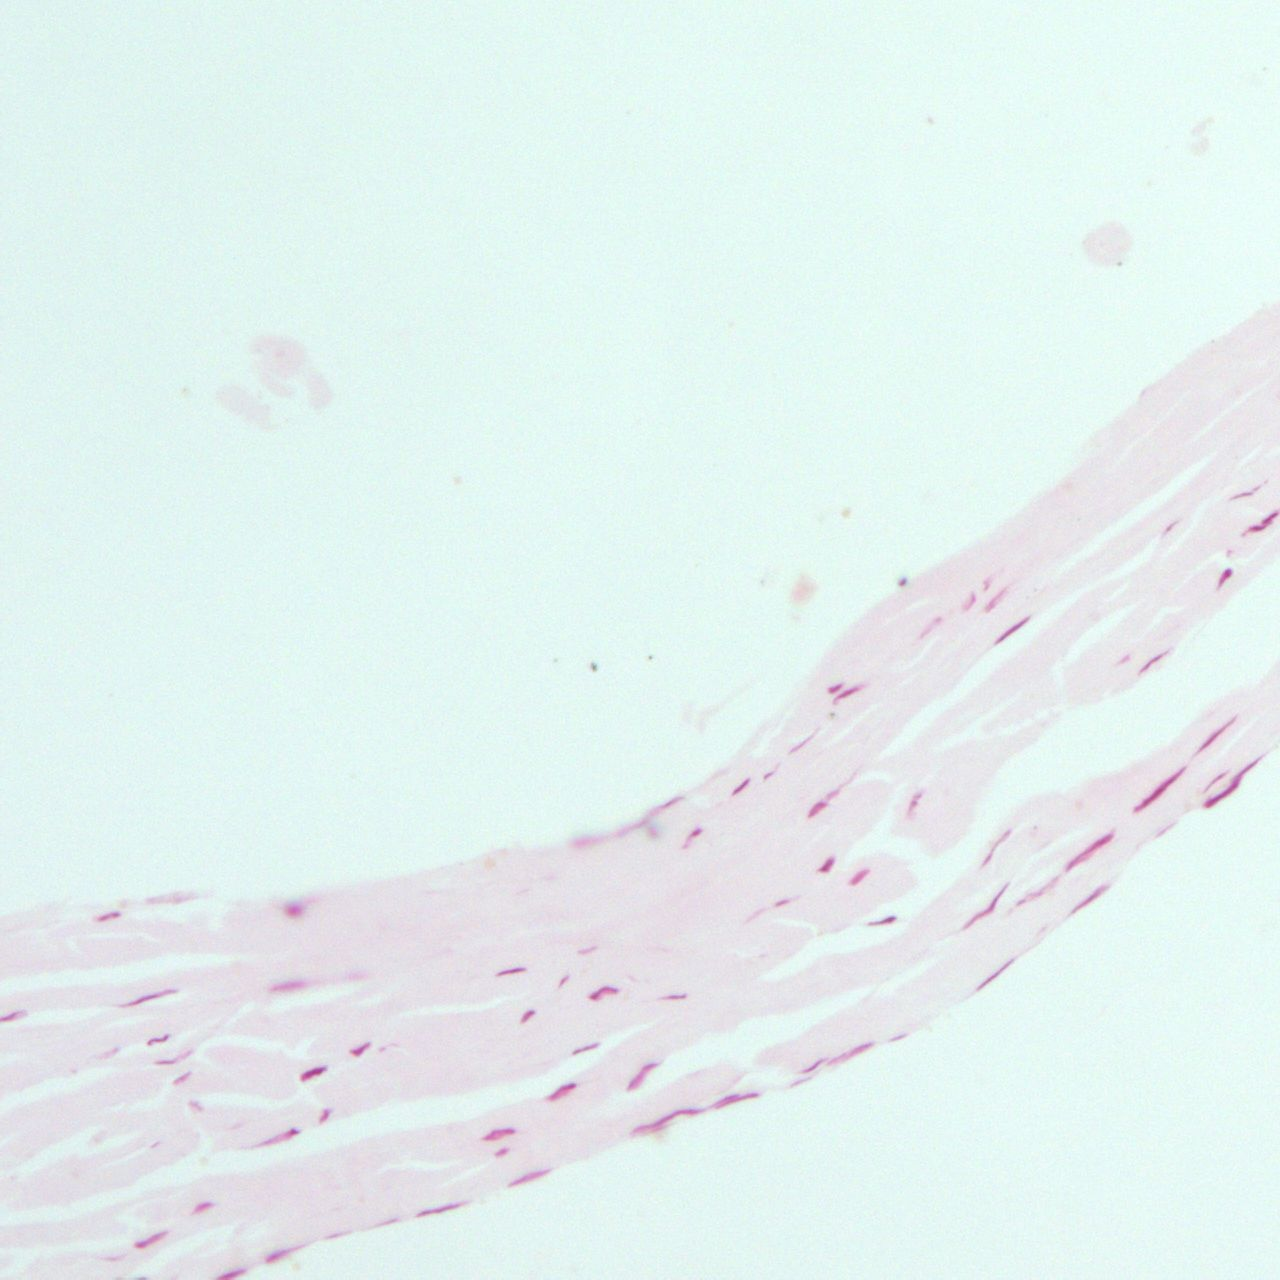dust: (588, 660, 600, 672), (760, 576, 764, 588), (1117, 263, 1123, 271), (552, 658, 557, 666), (648, 654, 652, 660)
nucleus-AC: (1197, 755, 1266, 816), (1126, 762, 1192, 816), (962, 877, 1015, 934), (629, 1101, 706, 1139), (1058, 829, 1117, 874), (1191, 709, 1242, 757), (113, 982, 179, 1015), (1015, 871, 1062, 910), (990, 612, 1034, 653), (973, 956, 1017, 995), (252, 1124, 302, 1152), (978, 828, 1012, 869), (501, 1164, 554, 1190), (1069, 881, 1109, 915), (622, 1058, 660, 1092), (263, 1239, 312, 1264), (1194, 767, 1230, 799), (1135, 646, 1171, 678), (154, 1046, 196, 1071), (132, 1224, 171, 1252), (899, 788, 930, 822), (293, 1061, 331, 1087), (266, 975, 309, 998), (980, 586, 1012, 617), (828, 682, 862, 708), (543, 1080, 579, 1103), (414, 1200, 465, 1217), (714, 1090, 758, 1109), (143, 1028, 176, 1051), (680, 821, 704, 851), (91, 906, 124, 928), (915, 615, 942, 641), (846, 864, 871, 892), (789, 730, 817, 755), (481, 1124, 518, 1142), (842, 1041, 874, 1061), (345, 1039, 374, 1061), (165, 1068, 195, 1089), (727, 775, 753, 798), (568, 1040, 602, 1057), (1212, 564, 1235, 588), (706, 1091, 743, 1107), (797, 1056, 828, 1075), (188, 1196, 216, 1216), (363, 1216, 403, 1230), (956, 590, 980, 613), (314, 1104, 336, 1129), (216, 1264, 248, 1280), (1242, 518, 1266, 540), (659, 794, 685, 813), (1157, 518, 1179, 540), (588, 986, 619, 1001), (823, 678, 845, 697), (866, 915, 900, 928), (806, 798, 828, 818), (979, 571, 1000, 591), (816, 855, 835, 873), (98, 1044, 121, 1060), (518, 1007, 537, 1024), (492, 1144, 513, 1159), (658, 992, 688, 1002), (495, 967, 529, 976), (324, 1228, 350, 1240), (1115, 652, 1133, 668), (556, 971, 571, 988), (790, 1074, 810, 1087), (761, 767, 777, 782), (285, 903, 302, 917), (188, 1101, 205, 1112), (577, 945, 595, 955), (1232, 490, 1251, 499), (772, 900, 792, 908), (897, 578, 908, 588)
